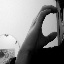c: (27, 4, 58, 43)
